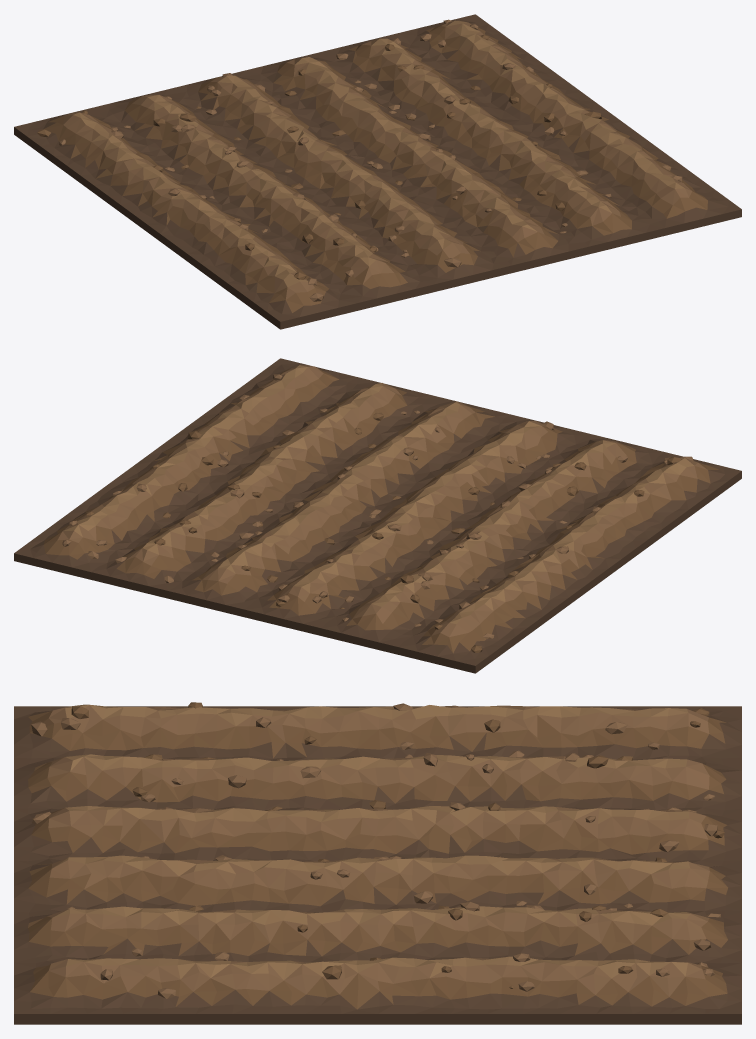
The model's file is plowed-field-v2.glb.
3 renders of one model, top to bottom at view 1: azimuth 30°, elevation 25°; view 2: azimuth 150°, elevation 25°; view 3: azimuth 270°, elevation 25°, orthographic. The views are drawn at different scales.
Visible parts, largest first — view 1: Static_mesh; view 2: Static_mesh; view 3: Static_mesh.
Boxes of the visible parts, x1,y1,x2,y2 form: Static_mesh: (14,14,741,329); Static_mesh: (14,358,741,673); Static_mesh: (14,702,741,1024).
Bounding box in the file's own units: 2.8 × 0.1735 × 2.8.
